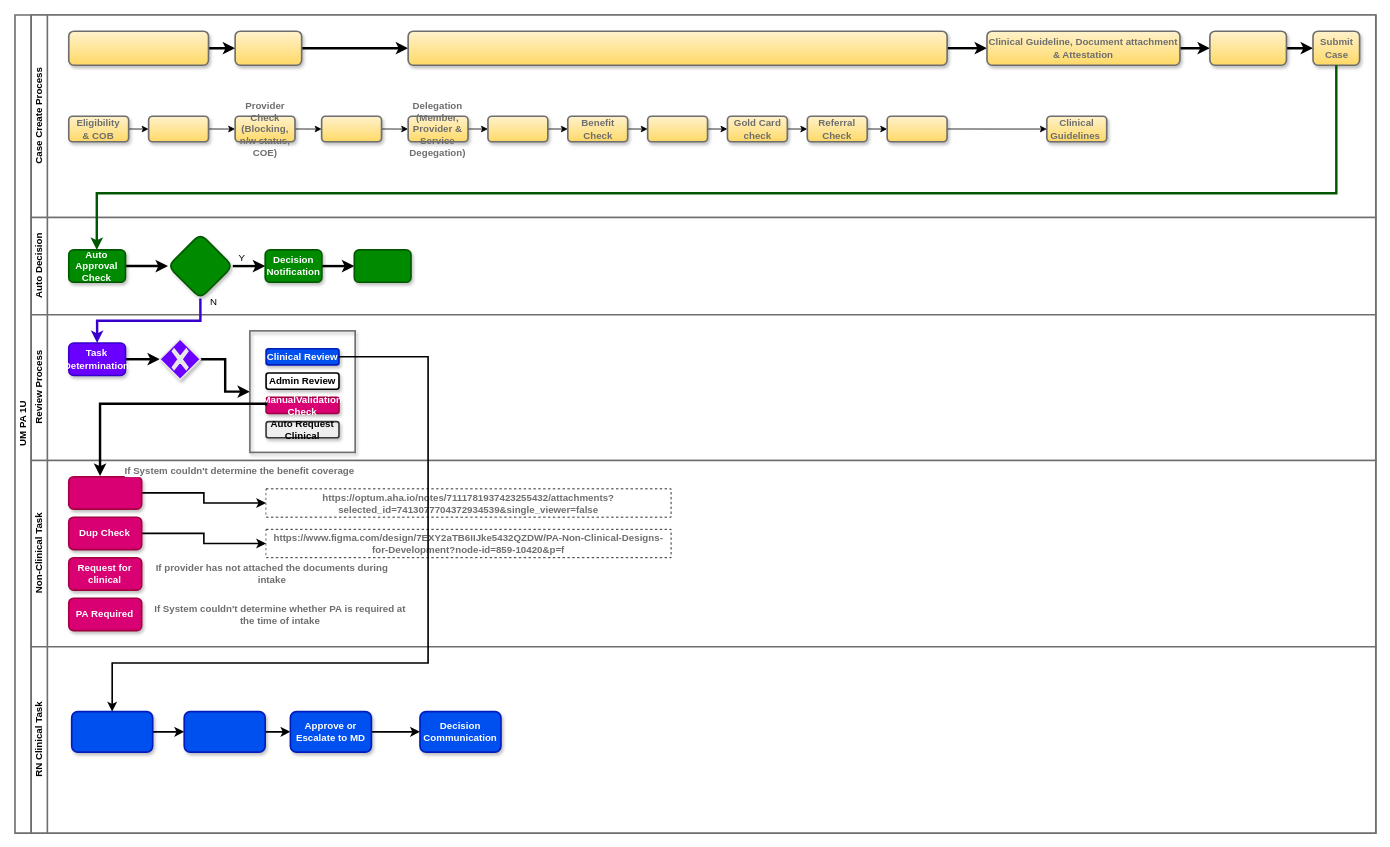
Some shapes in this 1390 by 847 pixel diagram are drawn without their labels. Each missing label, with the centre of its shape:
"Attest for expedited review" belongs at point (1248, 49).
"auto approved?" belongs at point (201, 267).
"Ben Check" belongs at point (105, 493).
"Case Closure" belongs at point (383, 266).
"Duplicate Check" belongs at point (518, 130).
"Late/Retrospective" belongs at point (917, 130).
"Member Blocking" belongs at point (179, 130).
"Member Pick" belongs at point (139, 49).
"Minimum Required Fileds" belongs at point (352, 130).
"PA Required Determination (member mednec, program buyups, SOS & pre-D)" belongs at point (678, 130).
"Perform new IQ review or considers provider IQ review" belongs at point (225, 732).
"Procedure, Diagnosis, other case data" belongs at point (678, 49).
"Provider Pick" belongs at point (269, 49).
"Review Provider Completed Interqual" belongs at point (112, 732).
